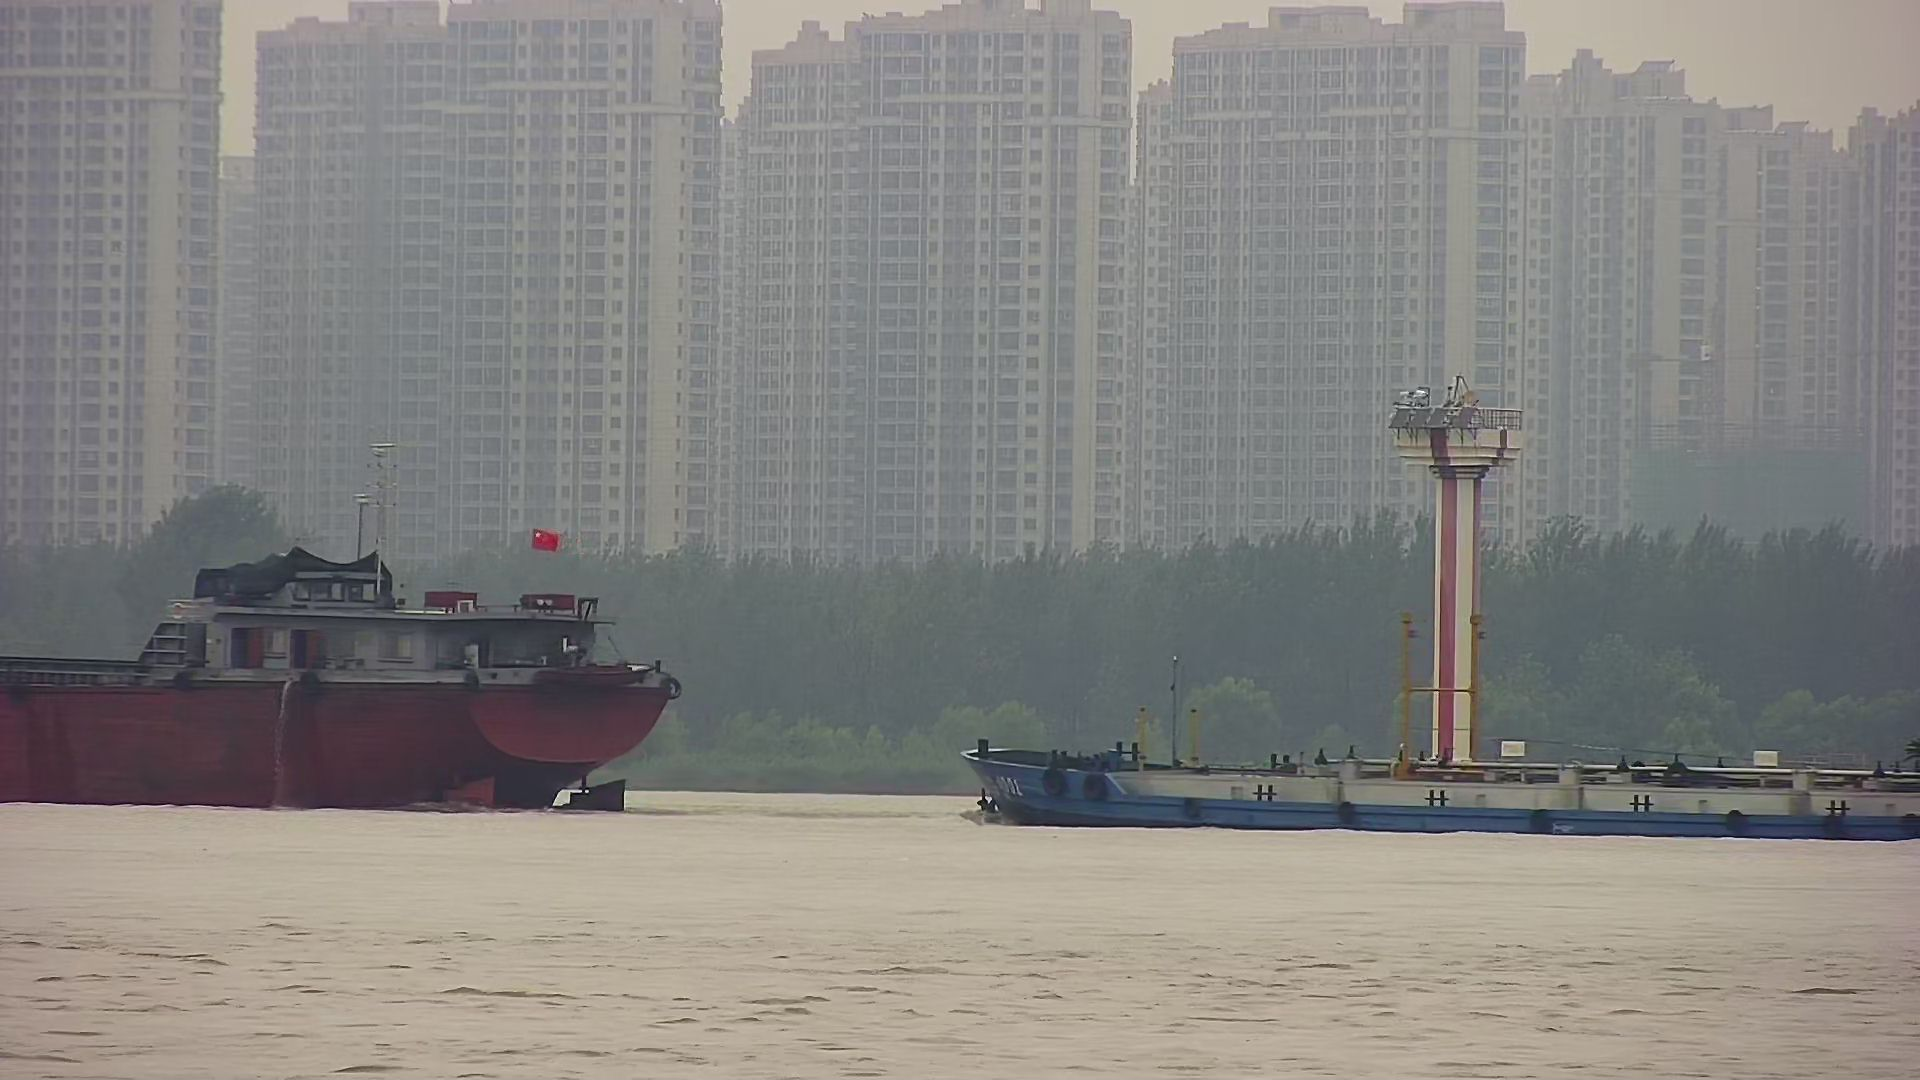platform: (1390, 375, 1524, 855)
ship: (1, 450, 680, 828), (959, 618, 1920, 847)
